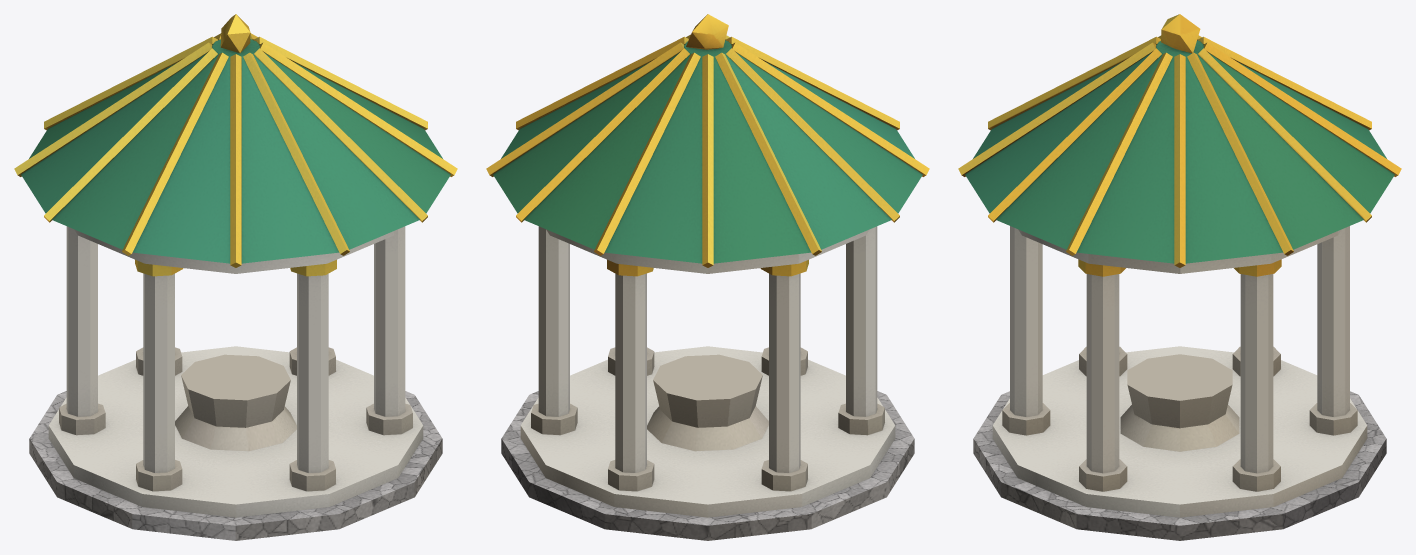
Rendered from hub_shrine_wild.fbx.
3 renders of one model, left to right at view 1: azimuth 30°, elevation 25°; view 2: azimuth 150°, elevation 25°; view 3: azimuth 270°, elevation 25°, orthographic.
Parts seen in each view (by area): view 1: hub_shrine_wild_body; view 2: hub_shrine_wild_body; view 3: hub_shrine_wild_body.
Boxes of the visible parts, x1,y1,x2,y2 form: hub_shrine_wild_body: [14, 14, 457, 540]; hub_shrine_wild_body: [486, 14, 929, 540]; hub_shrine_wild_body: [958, 14, 1401, 540].
Size of the model in its own units: 924 by 1010 by 924.
Materials: 1 (1 with a texture image).
